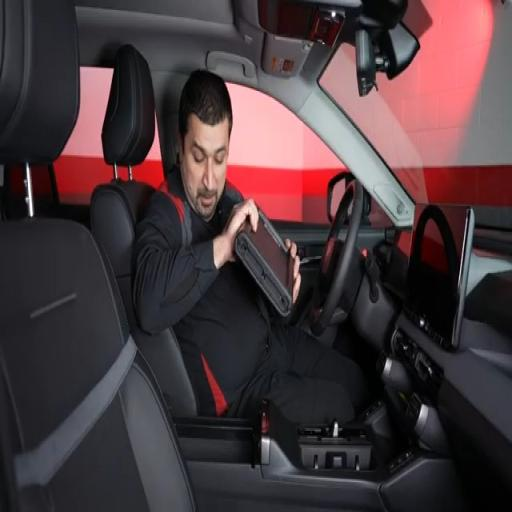side_mirror: (327, 171, 354, 223)
window: (228, 83, 346, 224)
windshield: (319, 0, 511, 216)
